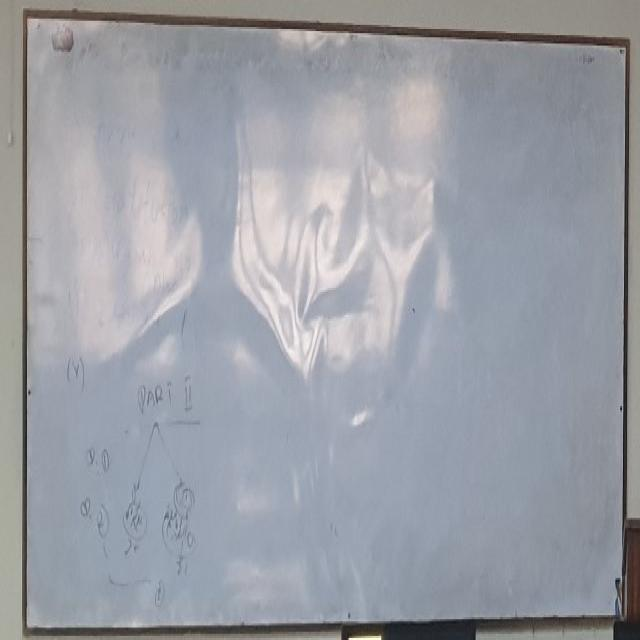White-board: (26, 11, 628, 633)
